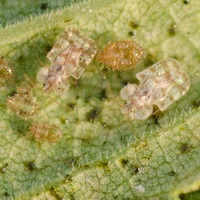insect: (120, 58, 190, 119), (37, 28, 96, 94), (97, 40, 145, 69)
